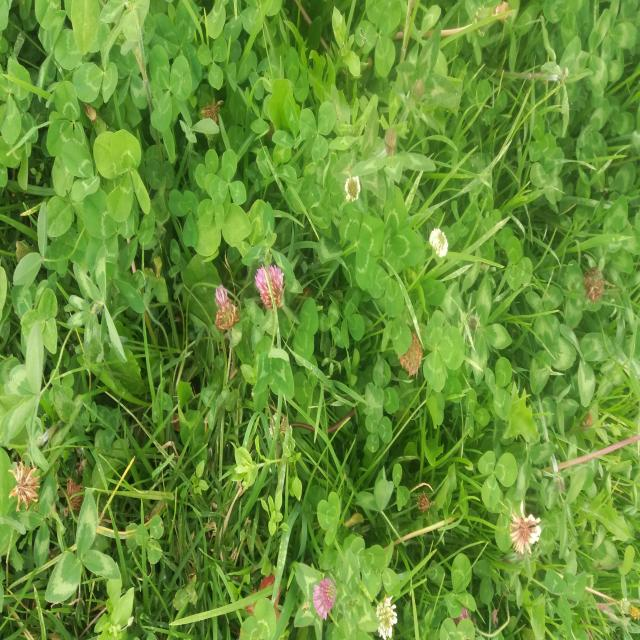Four Leaf Clover: (93, 129, 151, 223)
